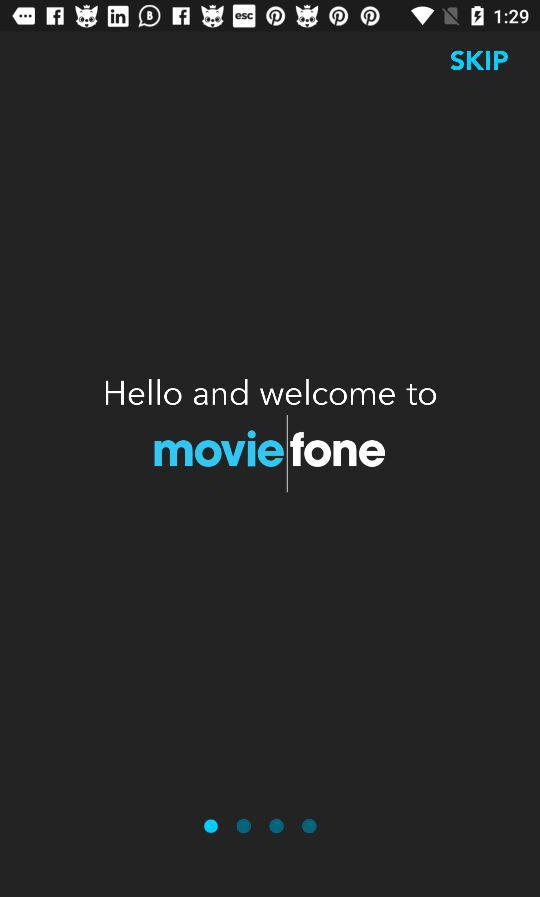Image: (154, 415, 386, 494)
PageIndicator: (203, 817, 320, 836)
Text: (106, 379, 437, 407), (450, 50, 509, 72)
UpperTaskBar: (1, 1, 540, 33)
